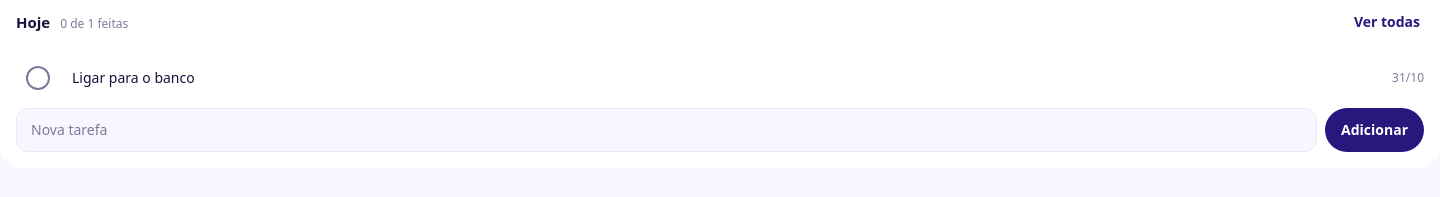
TarefasDeHoje › erroAoConcluirMostraAlertaNoCard
Click the button named "Marcar como feita: Ligar para o banco" at (38, 78), box [16,56,60,100]
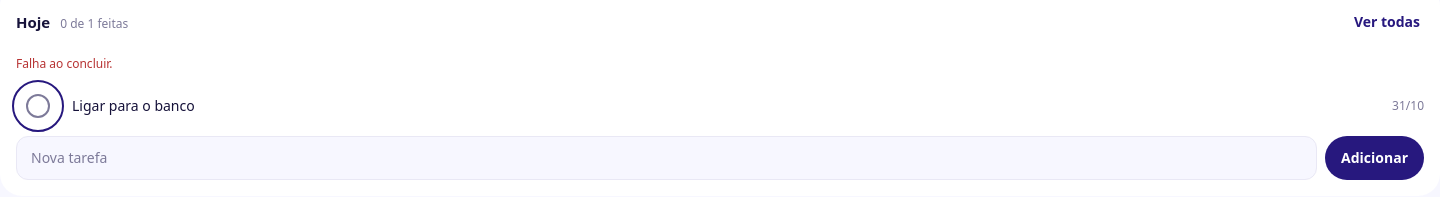
Result: the text "Falha ao concluir." is shown at [16,55,112,72]
